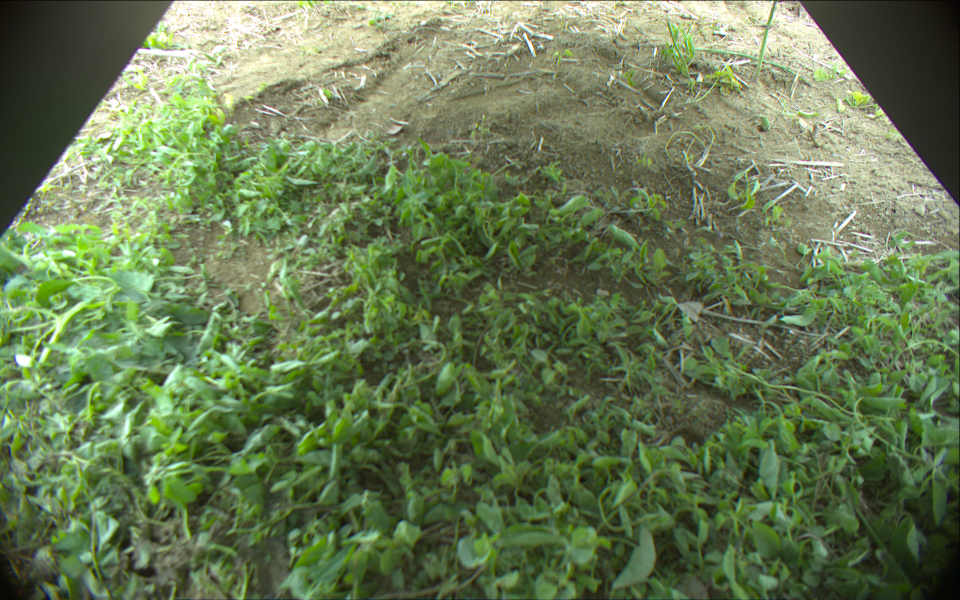aspa: (634, 42, 812, 84), (756, 1, 781, 76), (665, 21, 694, 74)
